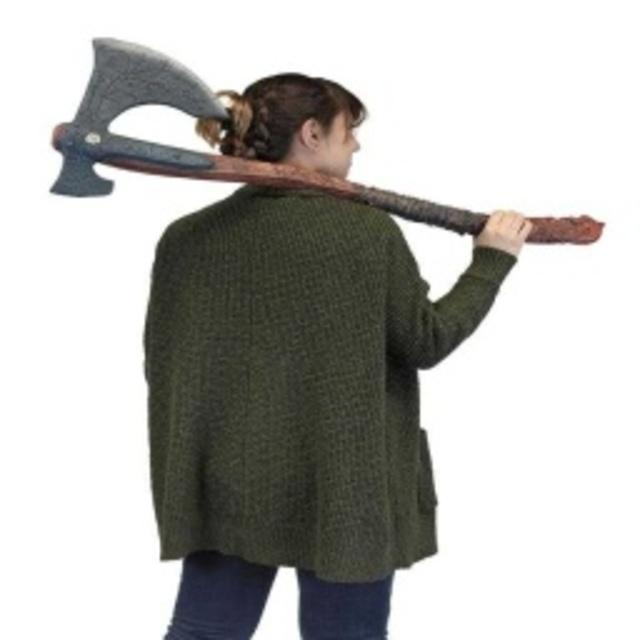ax: (41, 26, 608, 256)
